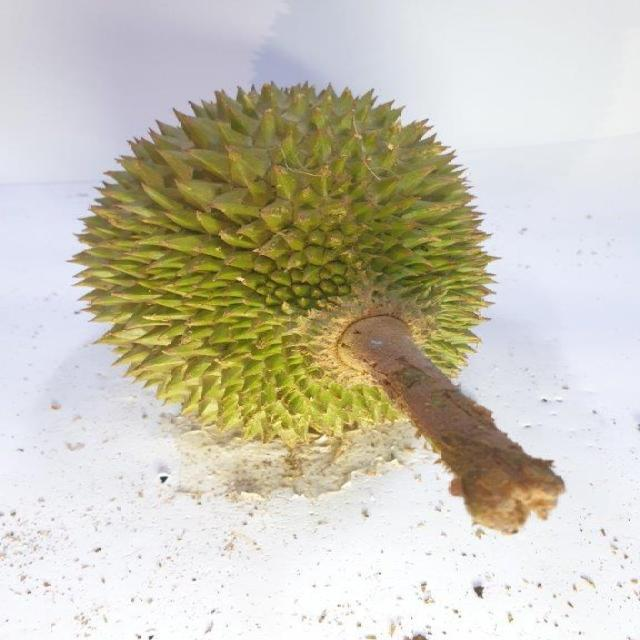immature: (71, 75, 498, 438)
